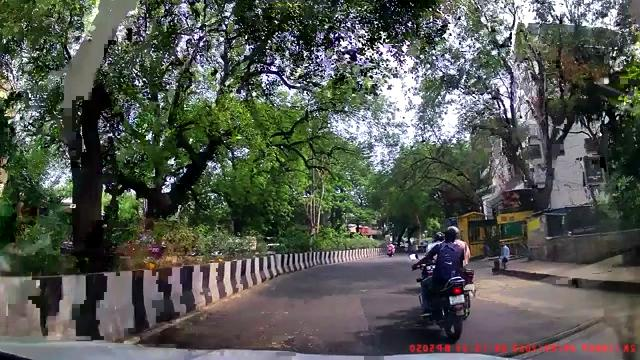motorcycle_without_helmet: (412, 224, 474, 341)
